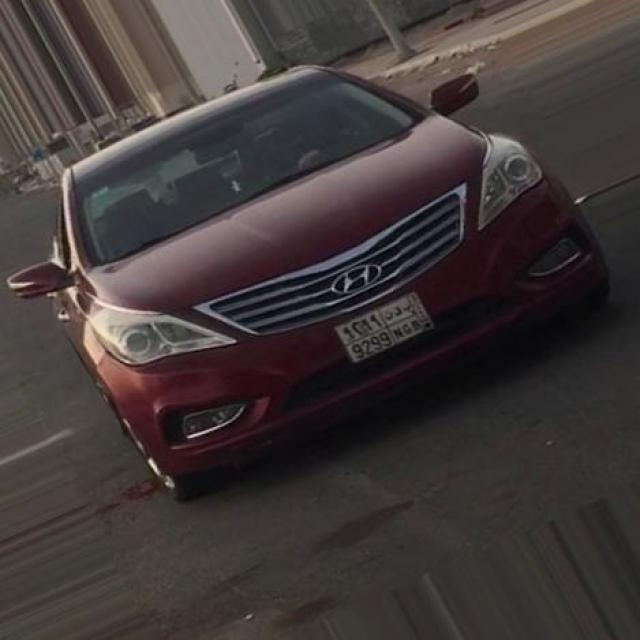Car-plate: (313, 280, 450, 380)
